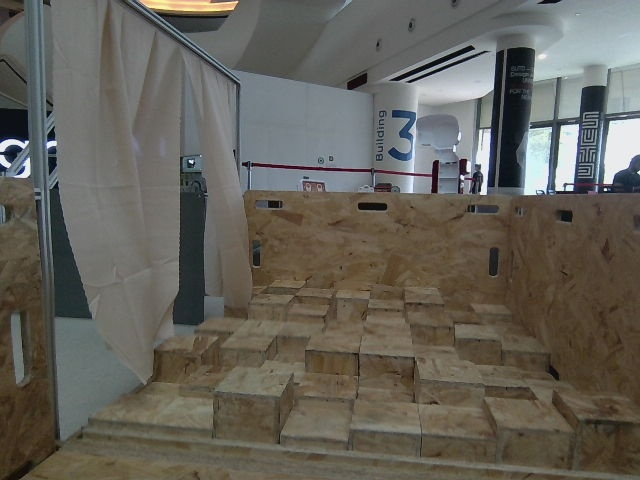curtain: (32, 0, 243, 432)
